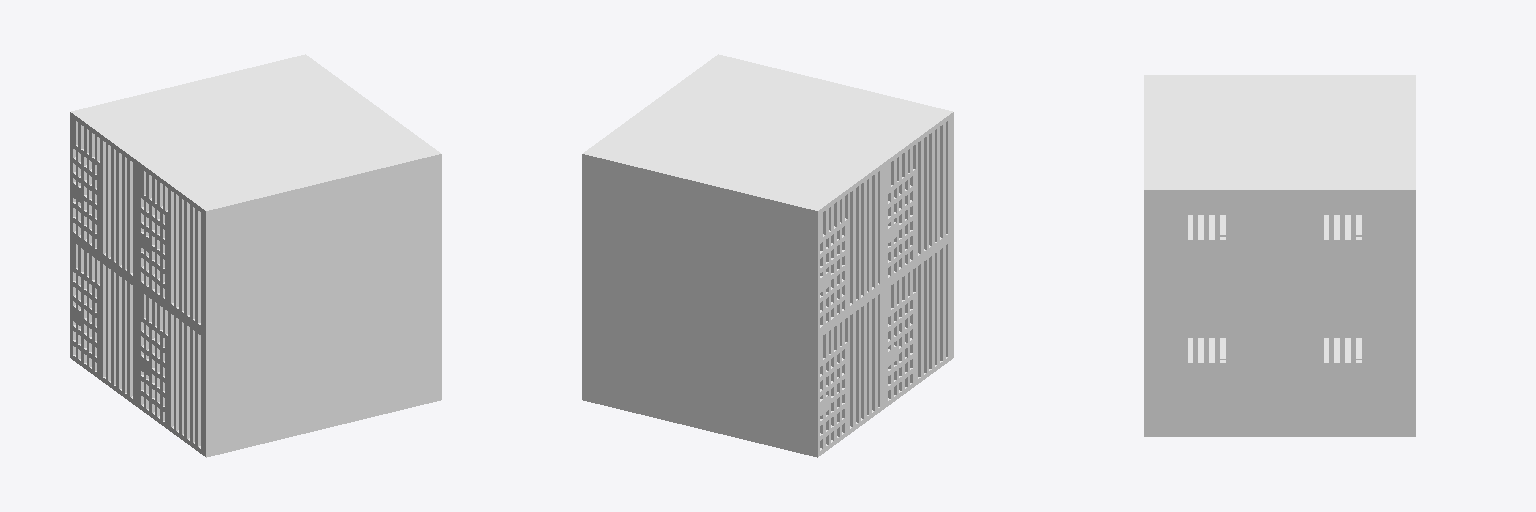
Rendered from Prison_Cells.obj.
3 views of the same model, side by side, from view 1: azimuth 30°, elevation 25°; view 2: azimuth 150°, elevation 25°; view 3: azimuth 270°, elevation 25° (orthographic).
Bounding box in the file's own units: 50 × 50 × 50.